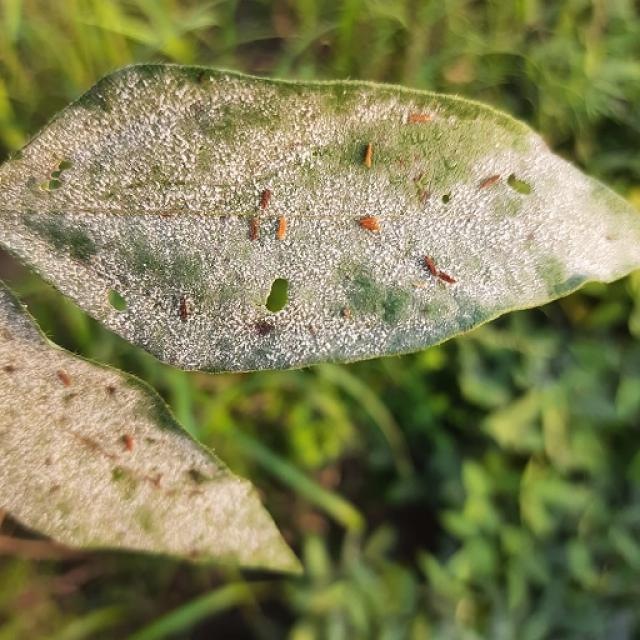Blackgram: (0, 65, 639, 369)
Powdery_Mildew: (475, 159, 614, 259), (236, 288, 363, 362), (204, 178, 325, 252), (329, 179, 445, 253), (228, 121, 328, 189), (124, 182, 202, 258), (227, 242, 336, 294), (21, 221, 104, 282), (136, 279, 218, 340), (41, 117, 110, 179), (134, 84, 197, 148), (6, 167, 87, 216), (343, 91, 423, 140), (210, 81, 284, 119), (88, 136, 134, 196), (424, 264, 496, 302)
